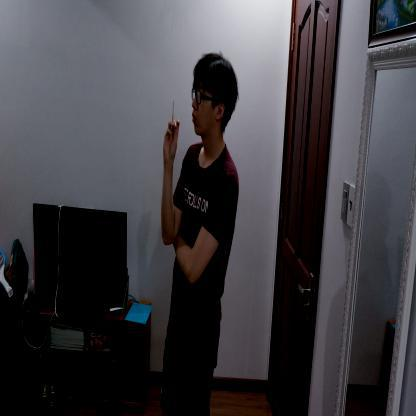cigarette: (172, 100, 174, 122)
person: (158, 51, 242, 416)
